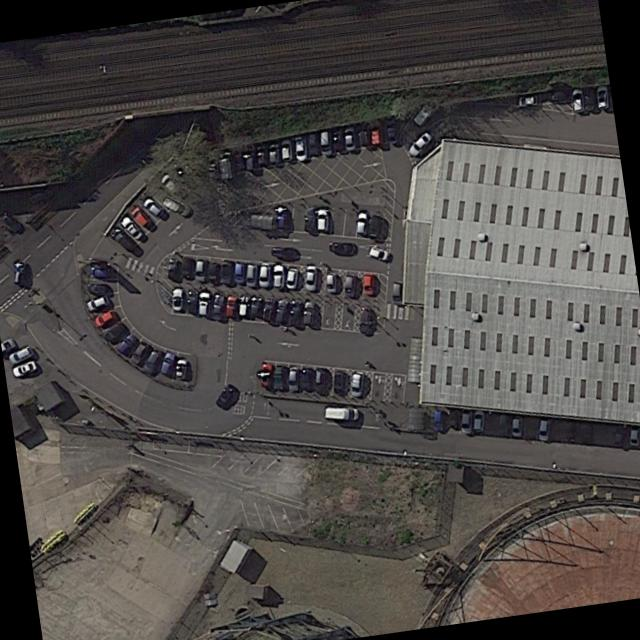large-vehicle: (215, 149, 234, 180)
small-vehicle: (107, 223, 139, 253), (156, 171, 188, 201), (406, 128, 434, 159), (117, 212, 145, 242), (160, 193, 192, 218), (27, 180, 59, 203), (139, 194, 167, 219), (140, 346, 163, 376), (100, 319, 127, 344), (114, 330, 139, 357), (128, 204, 154, 229), (213, 382, 237, 409), (6, 343, 35, 365), (322, 404, 359, 421), (128, 339, 150, 367), (10, 357, 39, 378), (0, 210, 23, 235), (91, 307, 118, 328), (84, 292, 111, 312), (273, 296, 290, 326), (158, 348, 176, 376), (365, 212, 383, 239), (292, 132, 308, 162), (260, 295, 277, 323), (609, 422, 628, 447), (317, 126, 332, 156), (349, 369, 365, 397), (288, 297, 303, 326), (383, 116, 398, 145), (209, 292, 225, 319), (256, 261, 272, 288), (341, 124, 357, 151), (458, 406, 473, 434), (357, 305, 372, 333), (368, 117, 383, 145), (246, 294, 262, 320), (367, 244, 390, 262), (196, 288, 210, 317), (384, 115, 398, 144), (11, 258, 26, 285), (329, 125, 344, 152), (328, 241, 356, 255), (302, 204, 316, 232), (259, 361, 273, 389), (300, 298, 314, 326), (217, 259, 232, 285), (594, 83, 609, 109), (275, 205, 289, 232), (303, 263, 317, 290), (544, 88, 571, 102), (242, 143, 256, 170), (223, 293, 238, 318), (173, 357, 189, 380), (269, 245, 297, 258), (315, 206, 329, 232), (185, 287, 199, 313), (244, 261, 258, 287), (536, 415, 550, 441), (286, 364, 299, 392), (271, 363, 285, 389), (194, 257, 208, 283), (355, 120, 369, 146), (305, 130, 319, 156), (278, 136, 292, 162), (231, 260, 246, 284), (361, 271, 376, 295), (355, 208, 368, 235), (312, 366, 325, 393), (570, 86, 583, 113), (298, 367, 312, 392), (342, 272, 356, 297), (254, 141, 268, 166), (284, 265, 298, 289), (236, 294, 250, 318), (166, 257, 180, 281), (580, 419, 592, 447), (170, 286, 183, 311), (509, 412, 522, 437), (331, 370, 344, 395), (484, 410, 496, 437), (88, 265, 115, 277), (230, 148, 244, 171), (272, 262, 284, 288), (496, 412, 509, 436), (582, 86, 595, 110), (626, 424, 640, 446), (181, 255, 193, 280), (563, 418, 575, 443), (267, 139, 279, 164), (206, 260, 219, 283), (471, 409, 484, 432), (391, 280, 403, 304), (432, 409, 444, 432), (516, 93, 539, 105), (86, 282, 111, 293), (325, 271, 337, 293), (446, 407, 457, 428)
